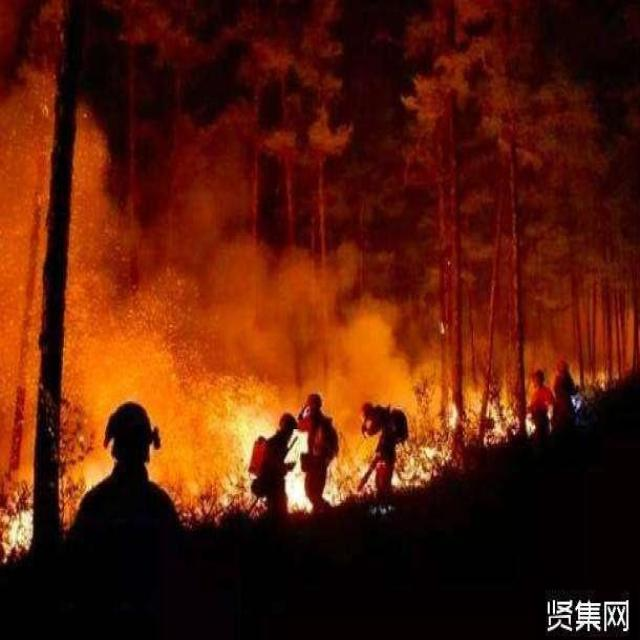fire: (211, 382, 352, 524), (396, 374, 533, 484), (9, 500, 94, 556)
smoke: (9, 93, 412, 472)
